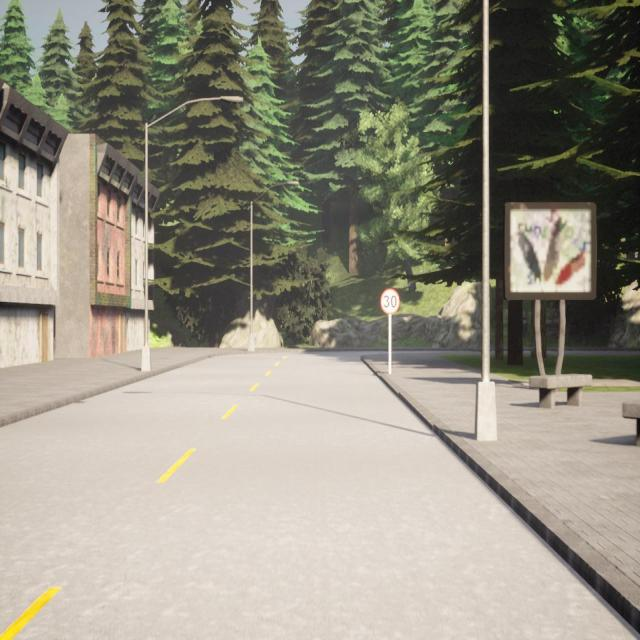Traffic_Signs: (380, 288, 401, 314)
